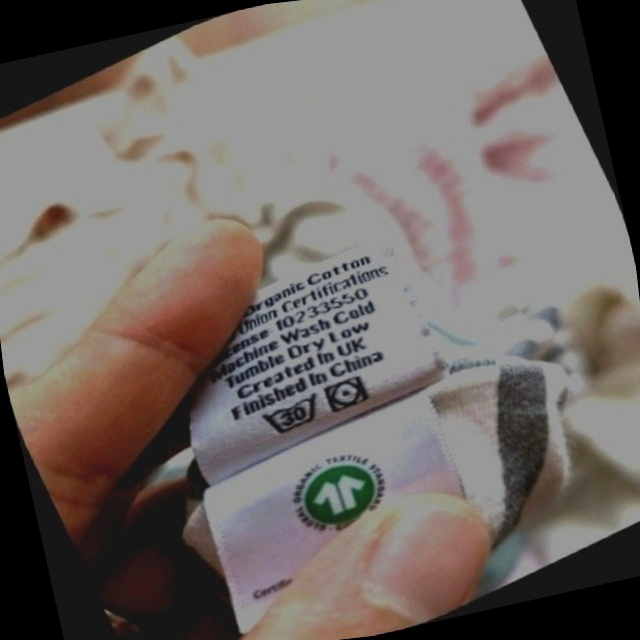30C: (250, 383, 334, 448)
tumble_dry_low: (316, 366, 378, 423)
